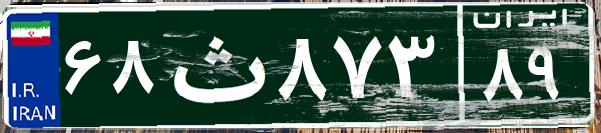3: (385, 28, 445, 110)
6: (57, 26, 110, 107)
7: (330, 28, 385, 110)
8: (273, 28, 330, 110), (475, 38, 525, 113), (110, 28, 158, 105)
9: (525, 38, 570, 115)
ث: (158, 15, 273, 115)
